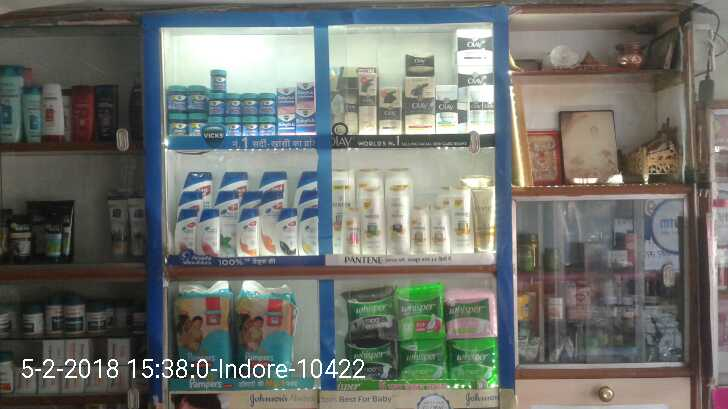beauty: (331, 169, 364, 257), (381, 170, 411, 253), (358, 172, 385, 255), (406, 72, 436, 137), (352, 73, 379, 135), (450, 193, 471, 251), (175, 209, 199, 254), (199, 212, 223, 257), (235, 211, 259, 256), (278, 211, 302, 256), (298, 210, 322, 255), (379, 89, 401, 134), (437, 87, 459, 132), (429, 209, 448, 251), (413, 207, 428, 252)
pharmacy: (167, 67, 317, 140), (168, 289, 231, 390), (235, 288, 298, 389), (393, 289, 454, 342), (441, 291, 502, 344), (450, 336, 511, 389), (395, 336, 456, 389), (341, 334, 402, 387)
